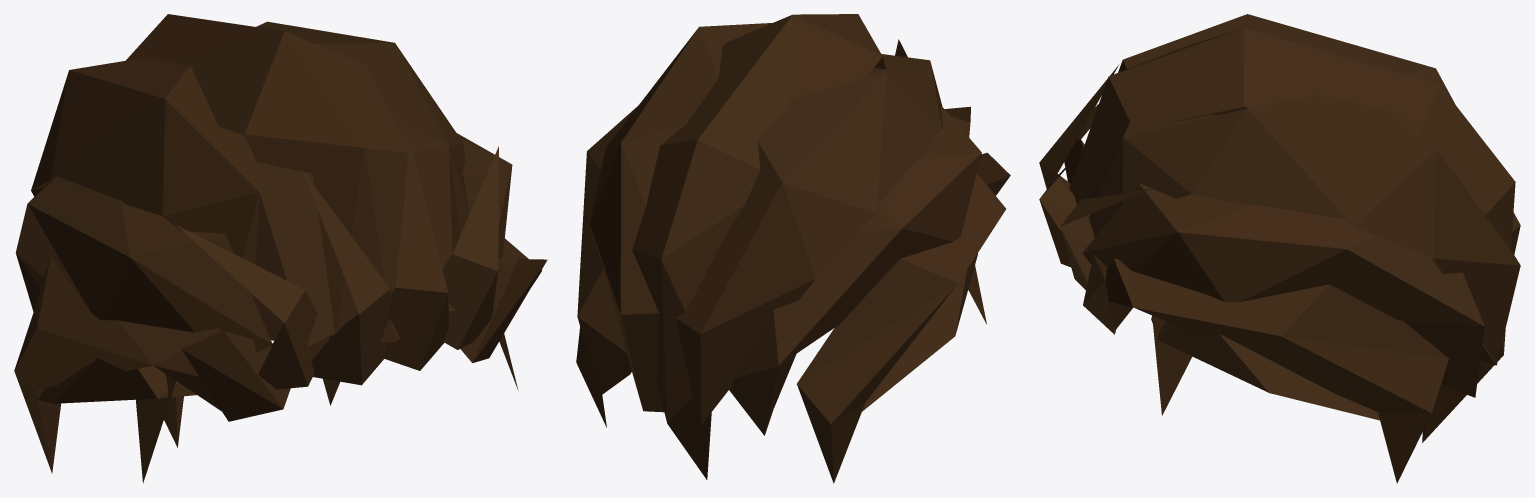
The model's file is hair-tousled.low.e5407042.glb.
The picture shows the model from 3 angles, left to right: view 1: azimuth 30°, elevation 25°; view 2: azimuth 150°, elevation 25°; view 3: azimuth 270°, elevation 25°; orthographic projection. The views are drawn at different scales.
Parts seen in each view (by area): view 1: hair-tousled; view 2: hair-tousled; view 3: hair-tousled.
Boxes of the visible parts, left/top/right/bottom form: hair-tousled: left=14, top=14, right=547, bottom=483; hair-tousled: left=576, top=14, right=1010, bottom=483; hair-tousled: left=1039, top=14, right=1520, bottom=483.
Bounding box in the file's own units: 0.2275 × 0.2408 × 0.2525.
